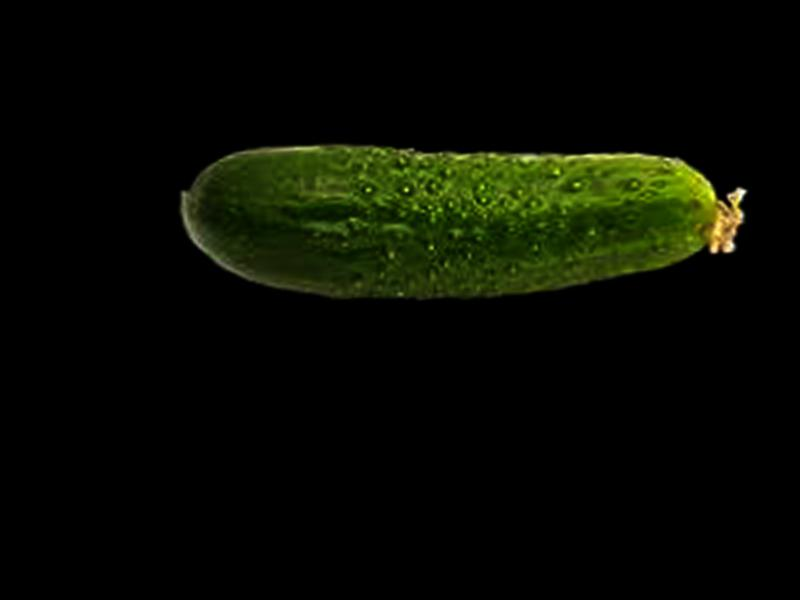Cucumber: (175, 113, 754, 320)
